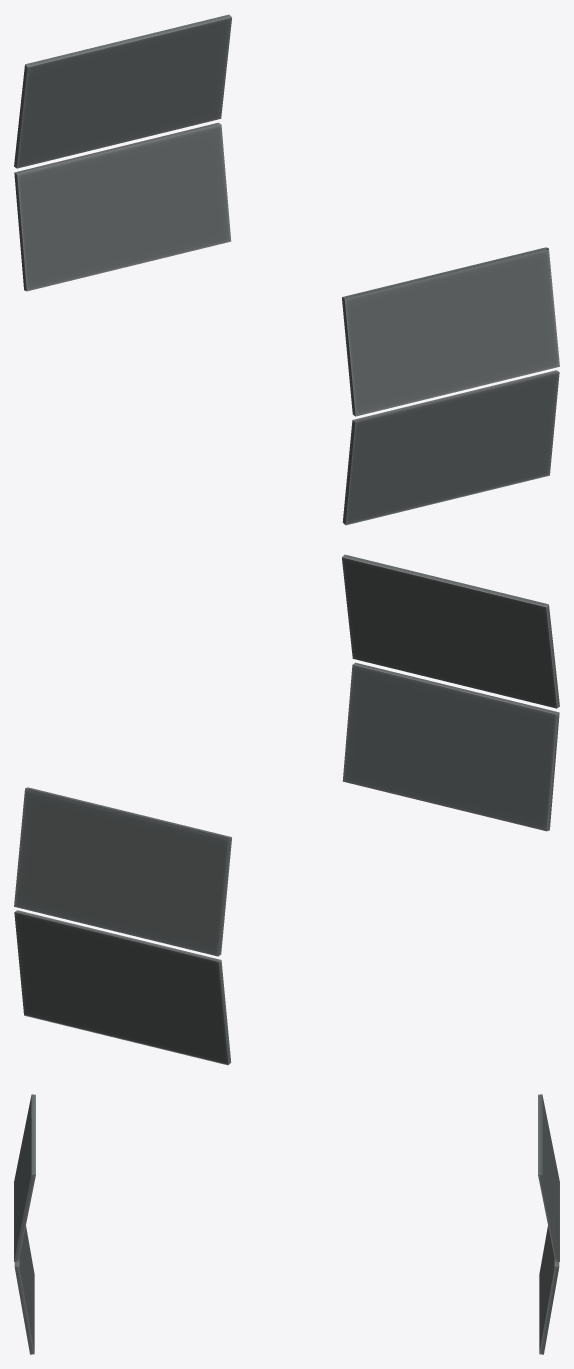
The model's file is SciFiRoom01_BlindsClosed.FBX.
3 views of the same model, one above another, from view 1: azimuth 30°, elevation 25°; view 2: azimuth 150°, elevation 25°; view 3: azimuth 270°, elevation 25° (orthographic). The views are drawn at different scales.
Visible parts, largest first — view 1: SciFiRoom01Blinds; view 2: SciFiRoom01Blinds; view 3: SciFiRoom01Blinds.
Boxes of the visible parts, x1=… form: SciFiRoom01Blinds: x1=14, y1=14, x2=559, y2=525; SciFiRoom01Blinds: x1=14, y1=554, x2=559, y2=1065; SciFiRoom01Blinds: x1=14, y1=1094, x2=559, y2=1354.
Size of the model in its own units: 170 by 180 by 492.
